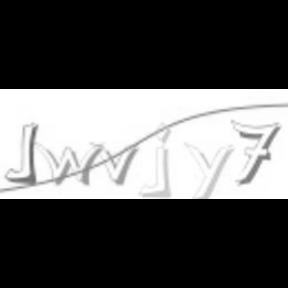7: (228, 118, 282, 186)
J: (3, 121, 41, 185)
j: (138, 122, 174, 200)
v: (98, 140, 140, 184)
w: (32, 140, 104, 184)
y: (183, 140, 235, 200)
